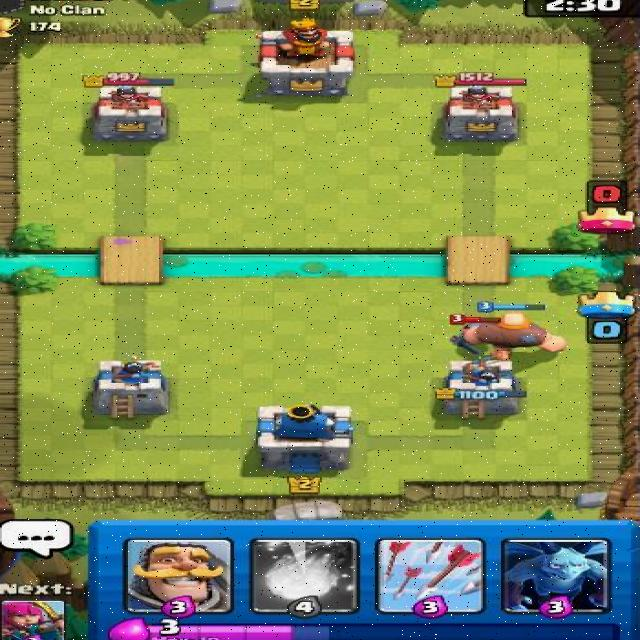Enemy-MiniPEKKA: (446, 312, 508, 357)
Player-Giant: (461, 299, 572, 362)
